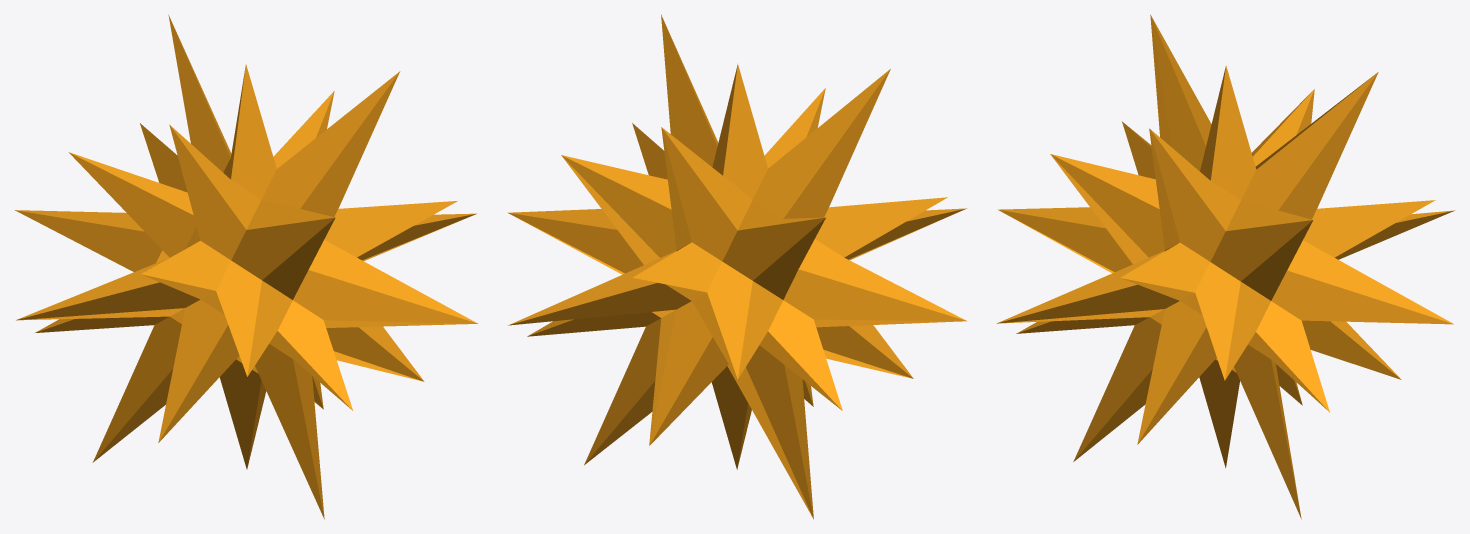
Rendered from pickup.fbx.
The picture shows the model from 3 angles, left to right: view 1: azimuth 30°, elevation 25°; view 2: azimuth 150°, elevation 25°; view 3: azimuth 270°, elevation 25°; orthographic projection.
Visible parts, largest first — view 1: Cube; view 2: Cube; view 3: Cube.
Part boxes in pixels (<box>): Cube: <box>14,14,478,519</box>; Cube: <box>508,14,966,519</box>; Cube: <box>996,14,1455,519</box>.
Size of the model in its own units: 1202 by 1013 by 1046.
